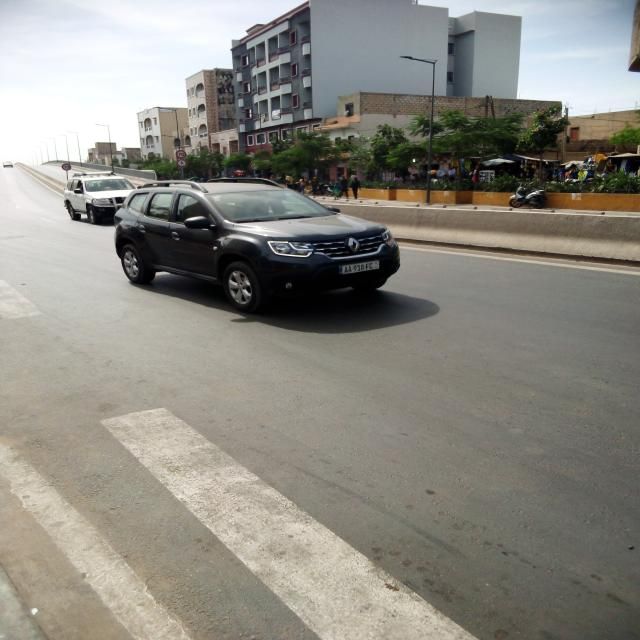moto: (509, 185, 548, 210)
particulier: (116, 180, 401, 314), (64, 172, 136, 225)
taxi: (4, 162, 14, 169)
